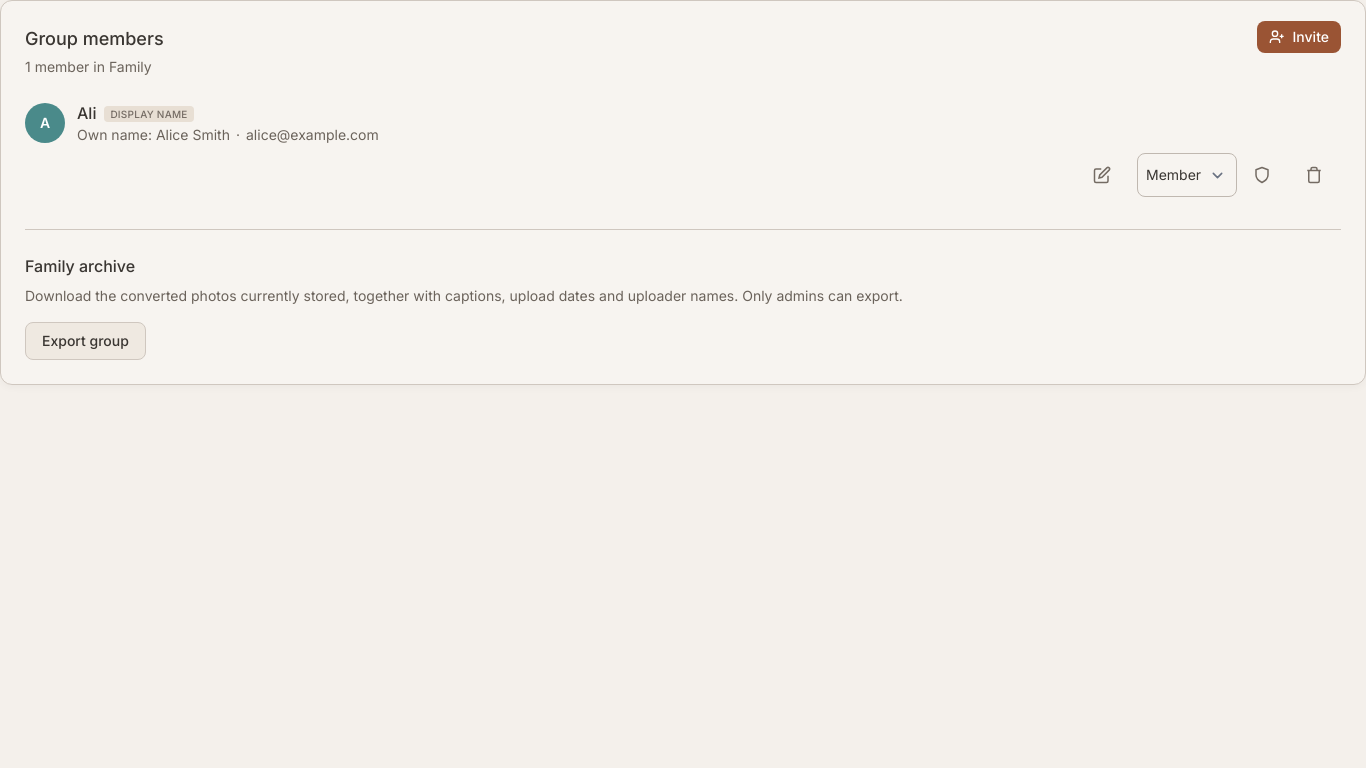
Test: MembersList display names › skips the request when the field is left unchanged
The width and height of the screenshot is (1366, 768).
Expected: the text "Ali" is shown, [77, 103, 96, 123]
Step 1. Click the button named "Set Ali's display name in Family" → [1107, 175], box [1085, 153, 1129, 197]
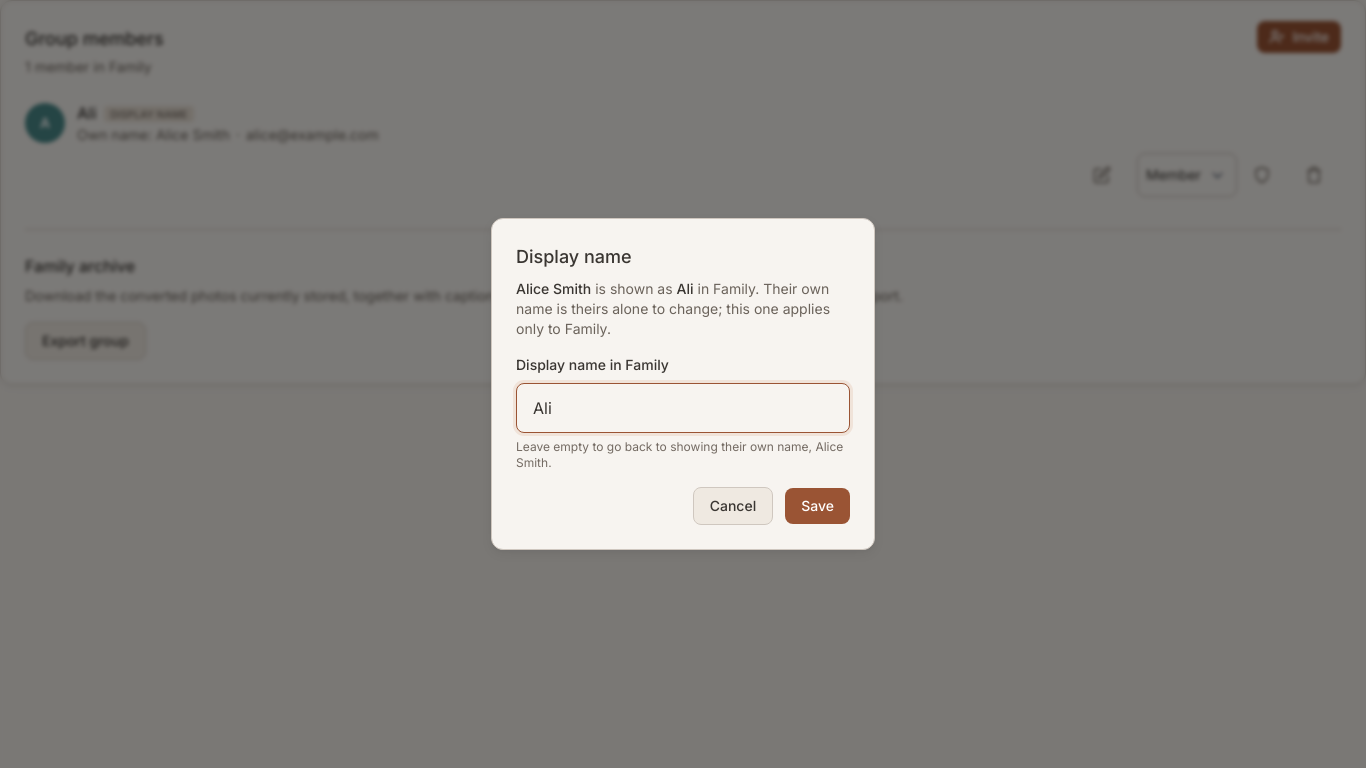
Step 2. Click the button "Save" → [818, 506], box [785, 488, 850, 524]
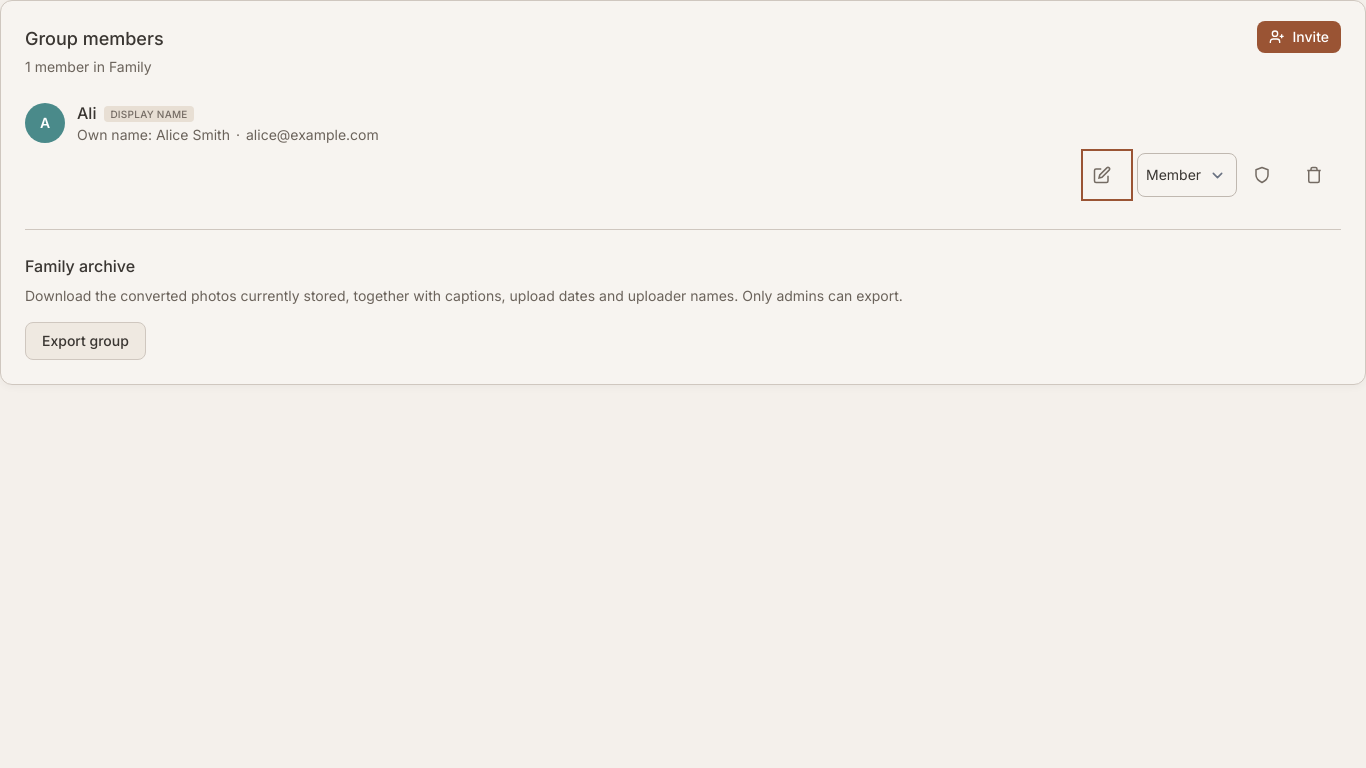
Now the label labelled "Display name in Family" is gone
